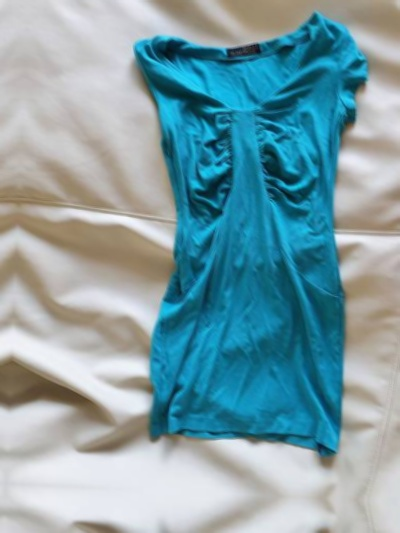Dress: (85, 0, 400, 471), (61, 518, 399, 533)
